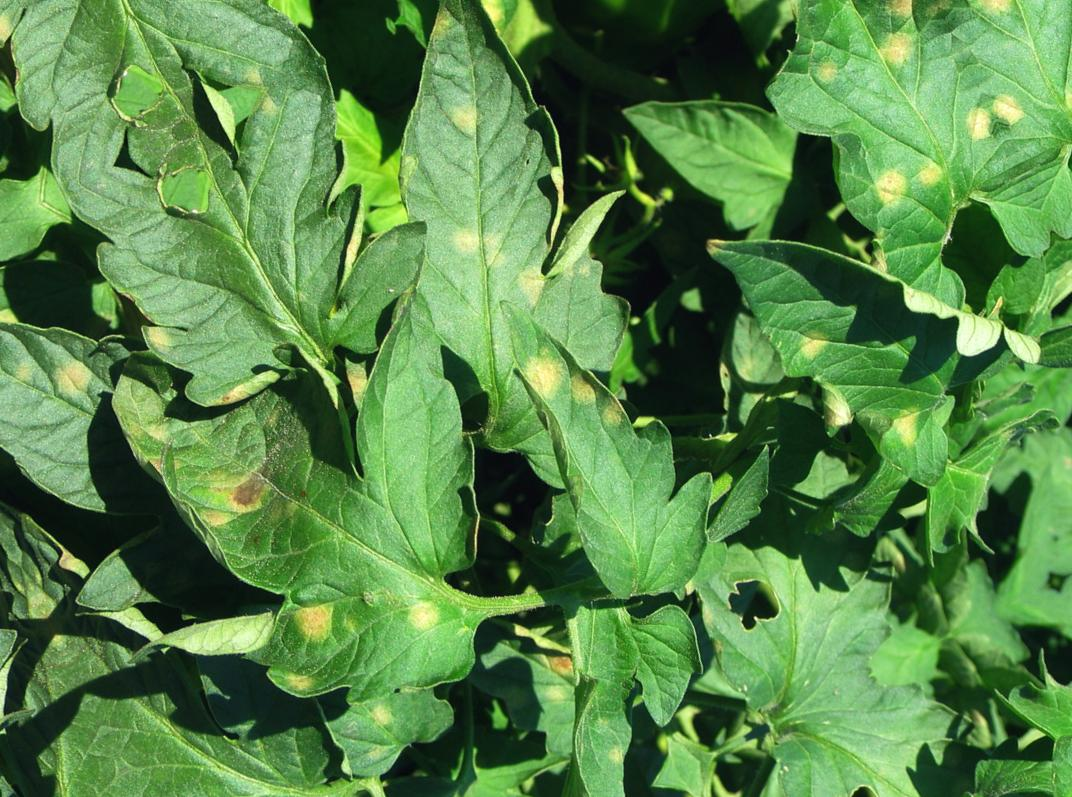Tomato mold leaf: (77, 253, 592, 794), (277, 0, 723, 479), (39, 54, 456, 445), (706, 148, 1060, 522), (690, 0, 1068, 342), (465, 259, 735, 622), (0, 219, 208, 571)
